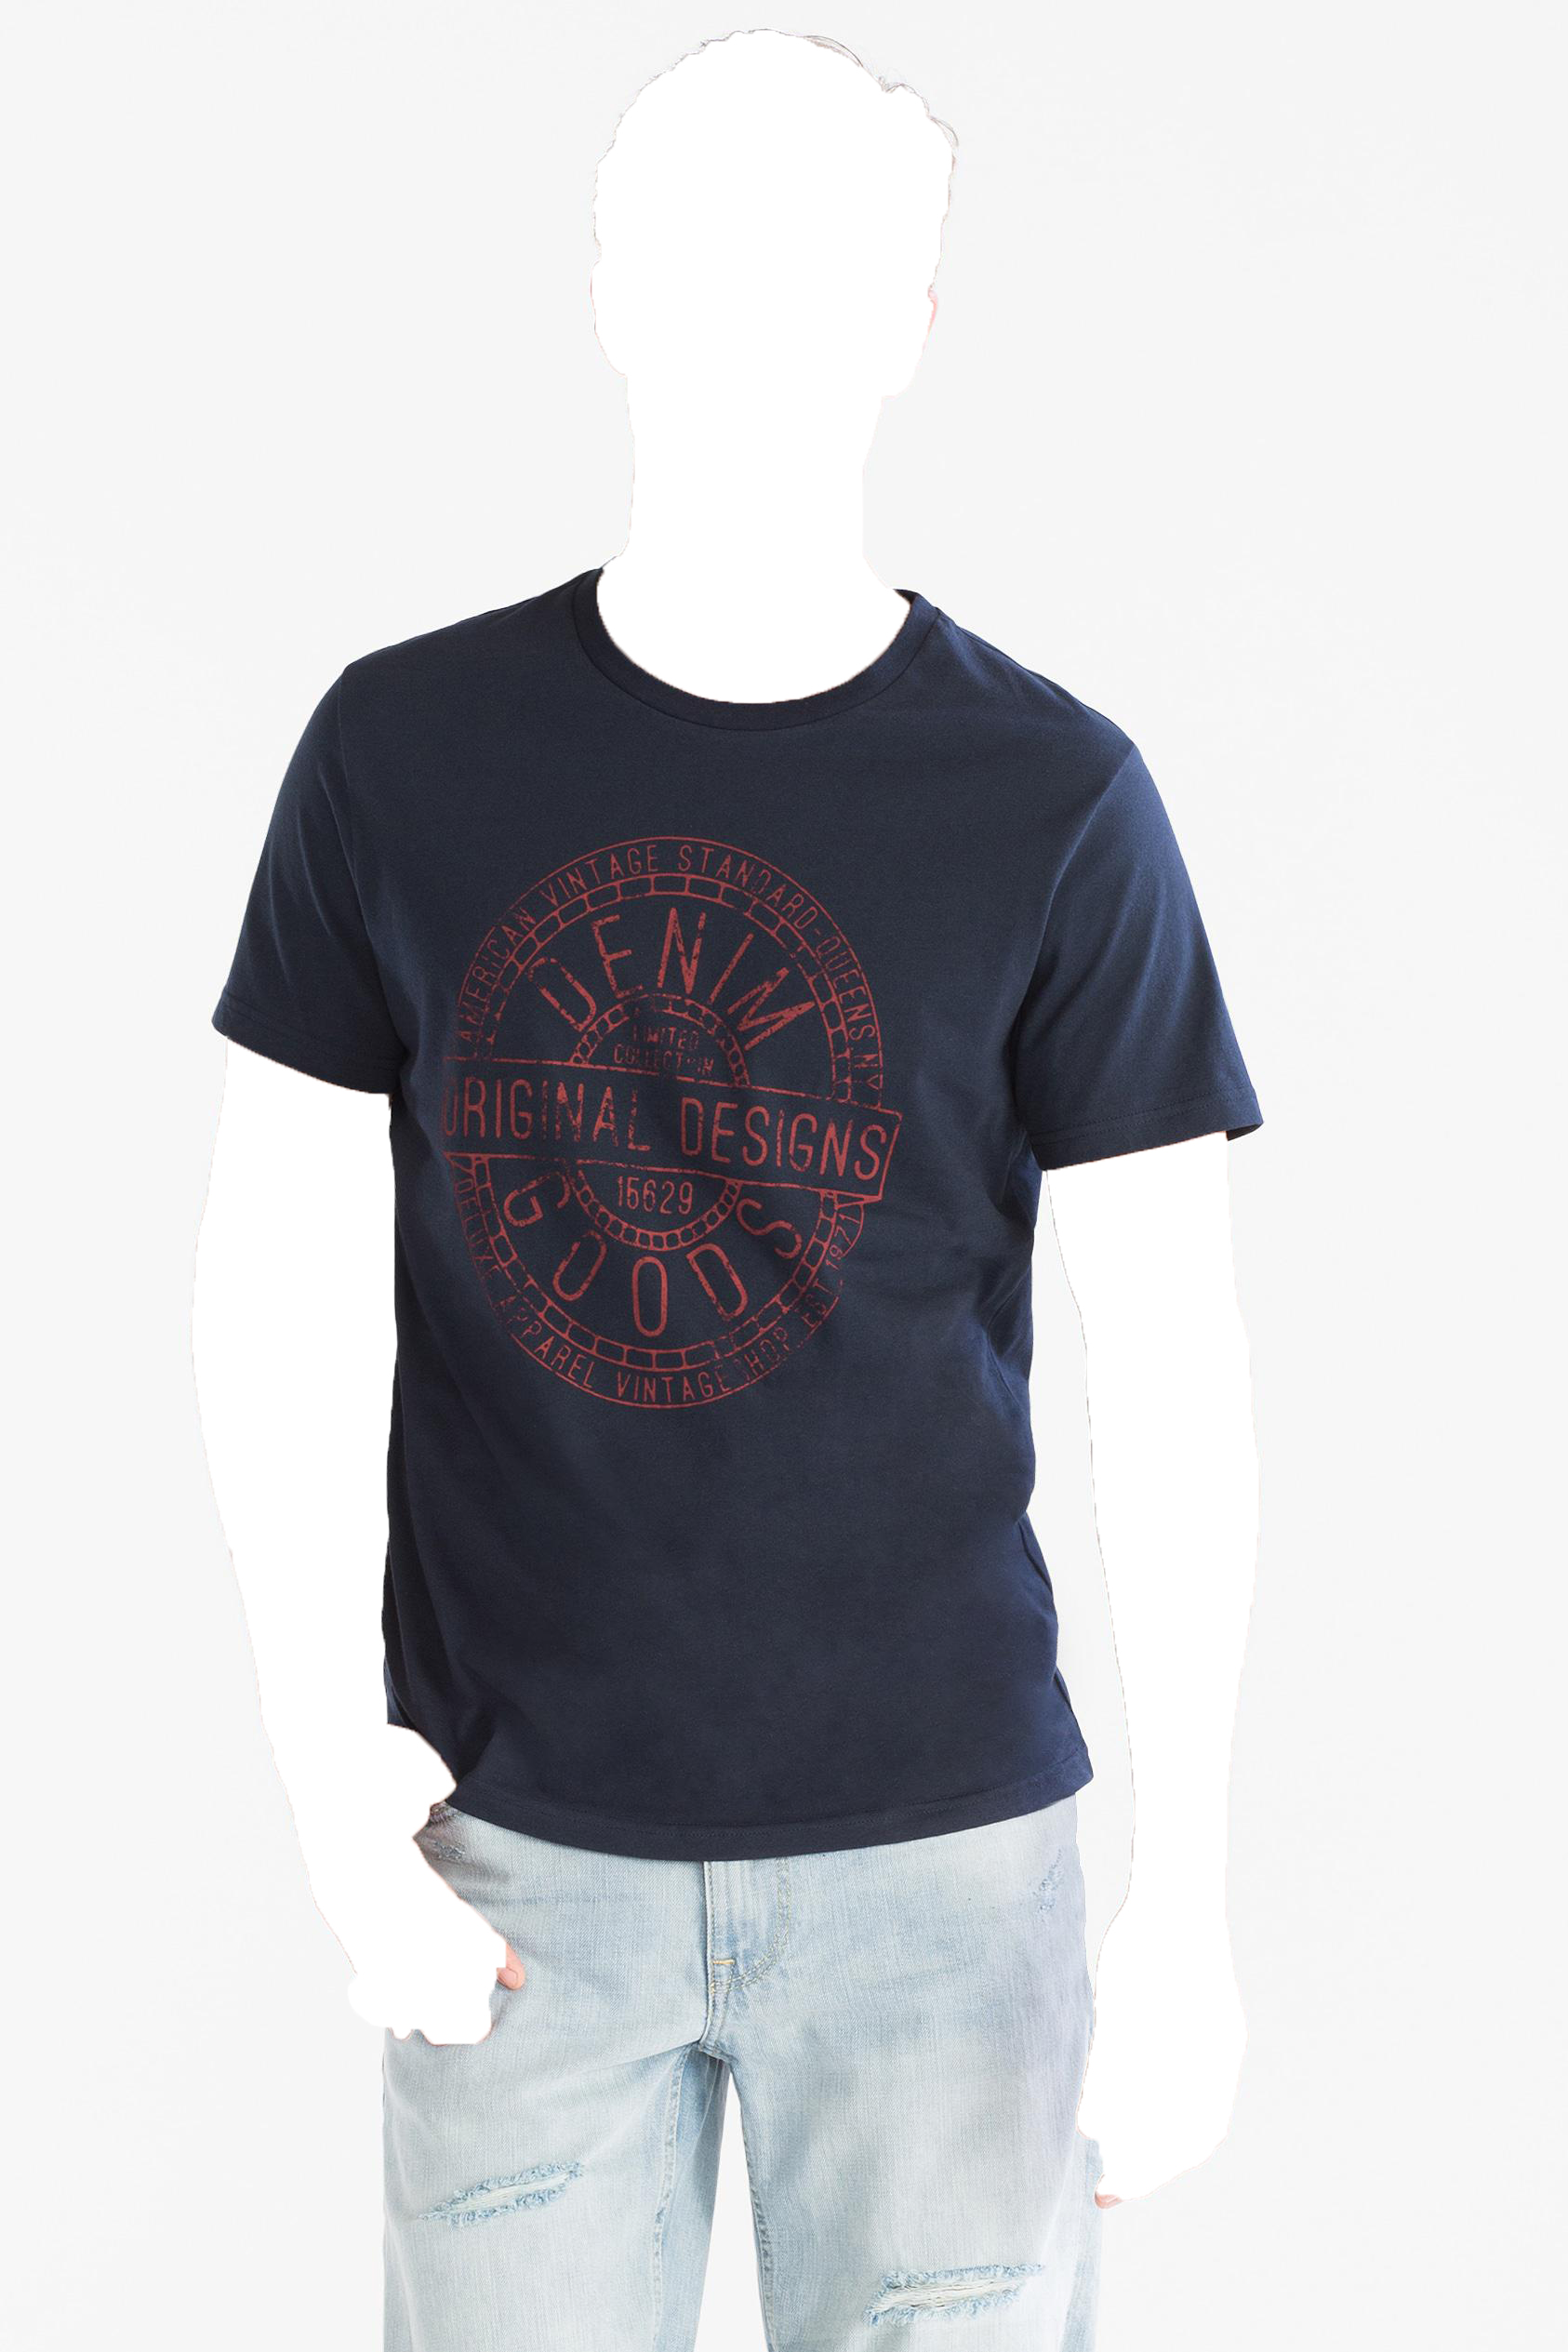teeshirt: (205, 549, 1286, 1881)
